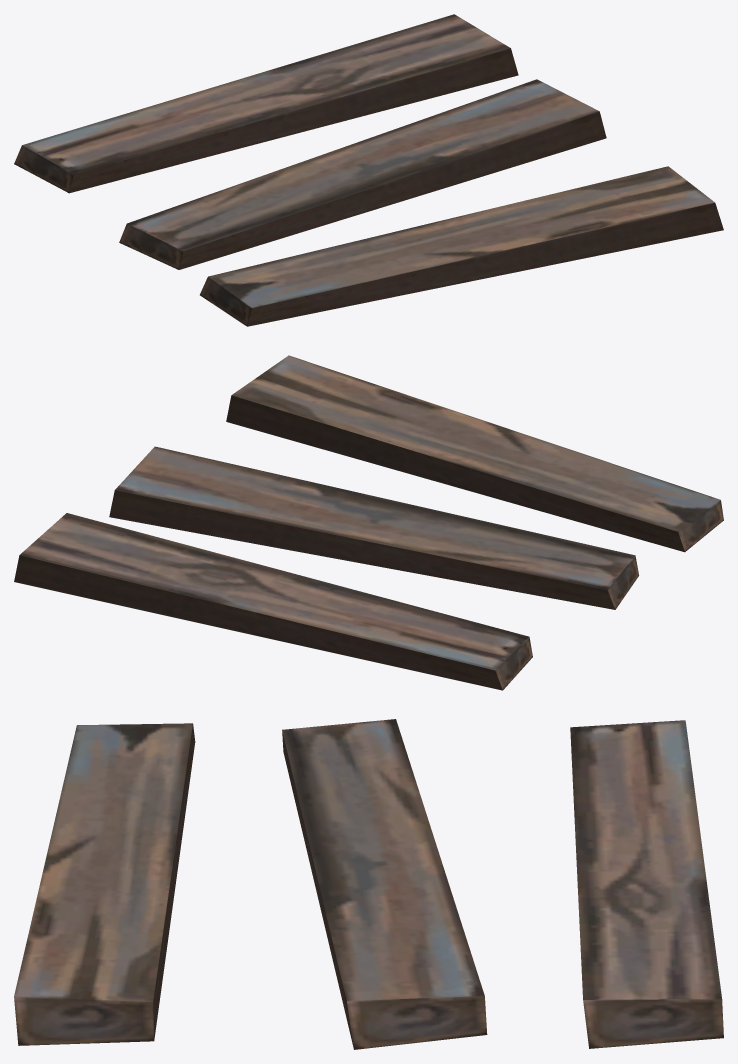
The model's file is mine_boards_01.fbx.
The picture shows the model from 3 angles, top to bottom: view 1: azimuth 30°, elevation 25°; view 2: azimuth 150°, elevation 25°; view 3: azimuth 270°, elevation 25°; orthographic projection. The views are drawn at different scales.
Parts seen in each view (by area): view 1: 11_-_Default; view 2: 11_-_Default; view 3: 11_-_Default.
Part boxes in pixels (left/top/right/bottom): 11_-_Default: left=14, top=14, right=723, bottom=326; 11_-_Default: left=14, top=355, right=723, bottom=690; 11_-_Default: left=14, top=719, right=723, bottom=1049.
Bounding box in the file's own units: 2.45 × 0.1658 × 2.35.
